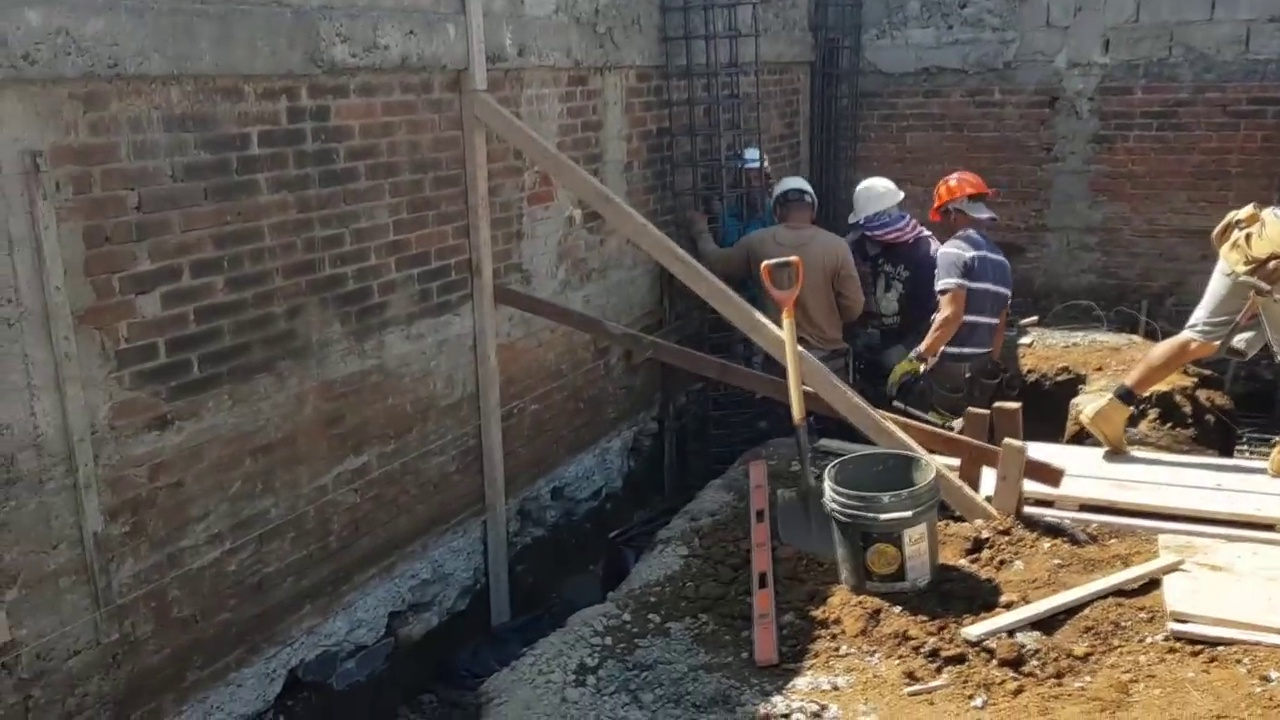helmet: (929, 172, 992, 222), (848, 175, 904, 223), (771, 177, 817, 218), (738, 147, 768, 170)
helmet-on: (928, 170, 991, 235), (847, 175, 904, 238), (770, 176, 817, 231), (738, 144, 769, 199)
person: (1077, 210, 1280, 478), (688, 176, 865, 423), (886, 163, 1012, 415), (847, 173, 941, 388), (708, 144, 776, 245)
